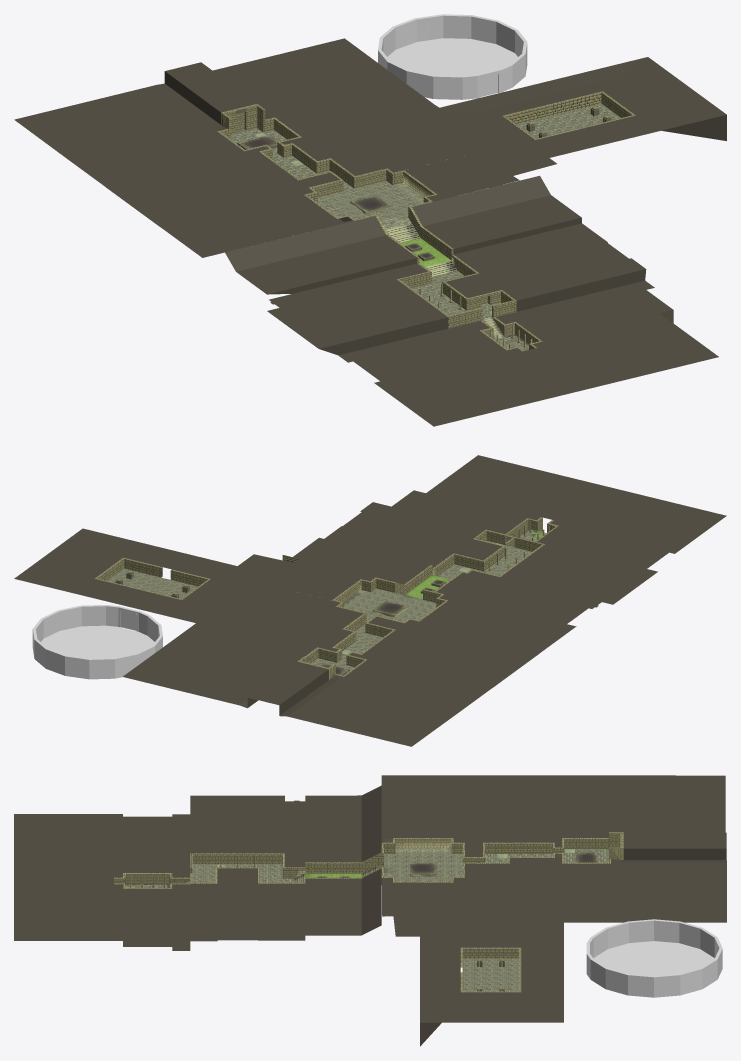
The model's file is Map_02.fbx.
3 views of the same model, one above another, from view 1: azimuth 30°, elevation 25°; view 2: azimuth 150°, elevation 25°; view 3: azimuth 270°, elevation 25° (orthographic). The views are drawn at different scales.
Visible parts, largest first — view 1: Cube.011, Cube.047, Plane; view 2: Cube.011, Cube.047, Plane; view 3: Cube.011, Cube.047, Plane.
Boxes of the visible parts, box(x1,y1,x2,y2) form: Cube.011: box(14, 38, 718, 426); Cube.047: box(440, 57, 726, 187); Plane: box(378, 14, 527, 99); Cube.011: box(122, 455, 726, 746); Cube.047: box(14, 528, 247, 622); Plane: box(32, 605, 162, 679); Cube.011: box(14, 775, 726, 950); Cube.047: box(420, 922, 563, 1046); Plane: box(586, 919, 722, 997).
Bounding box in the file's own units: 5099 × 500 × 6336.
